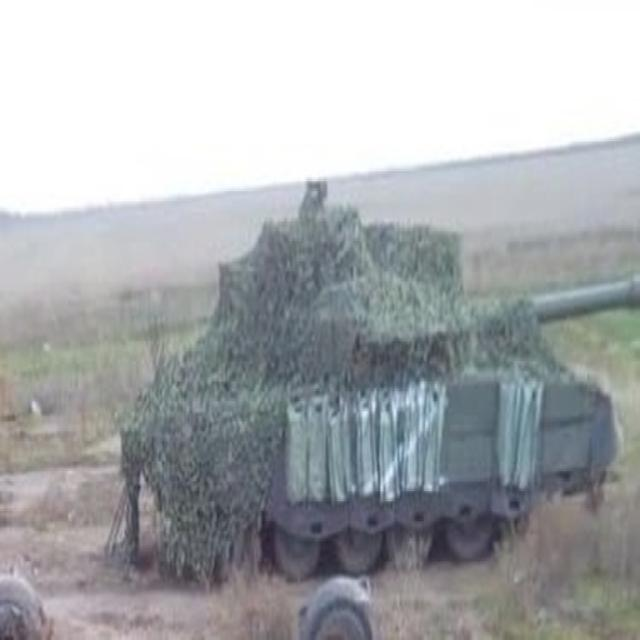TANK: (112, 174, 638, 574)
